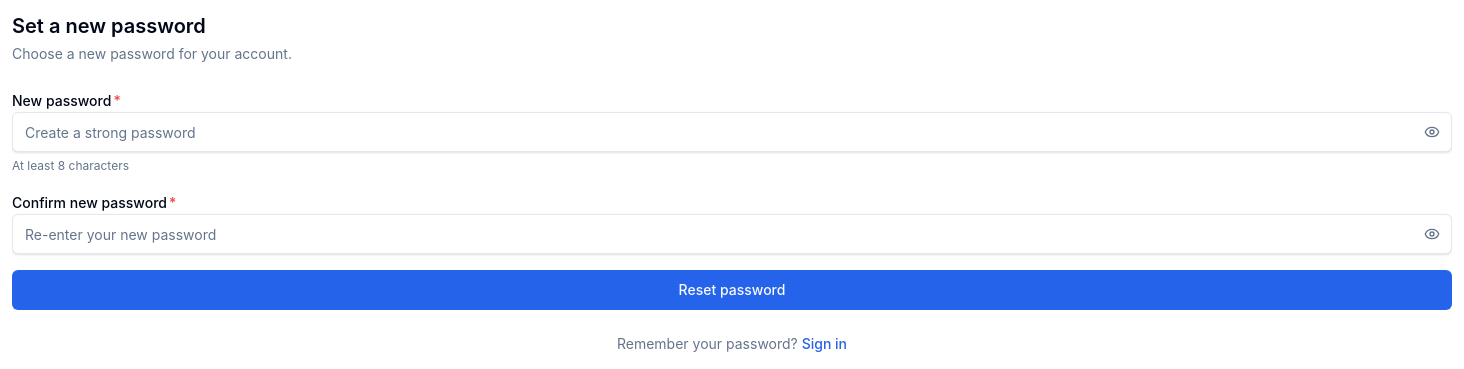
ResetPasswordPage › submits the token + new password to the exact endpoint and redirects to login
Type "newpassword456" into the password field labelled "New password*" at (732, 132), box [12, 112, 1452, 152]
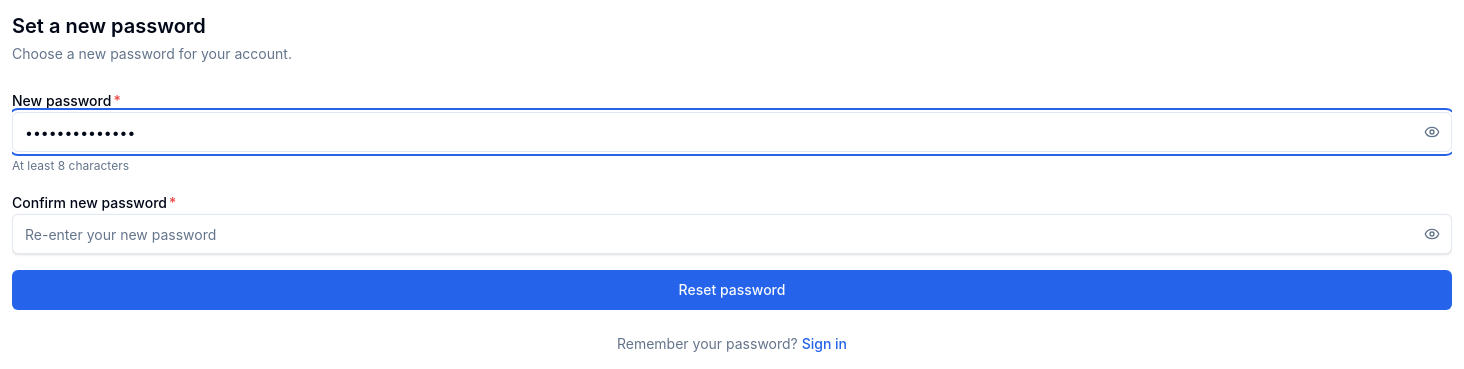
Type "newpassword456" into the password field labelled "Confirm new password*" at (732, 234), box [12, 214, 1452, 254]
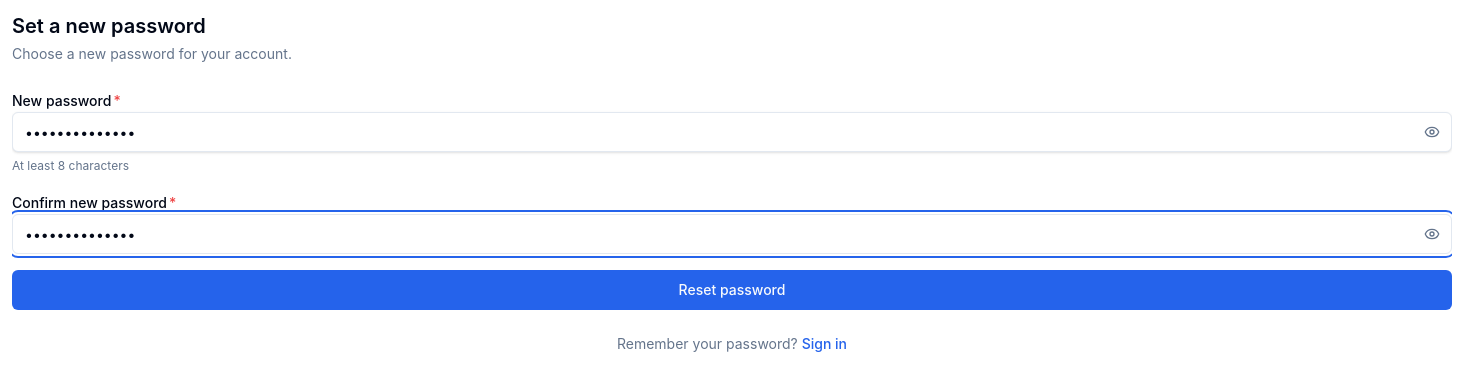
Click the button "Reset password" at (732, 290), box [12, 270, 1452, 310]
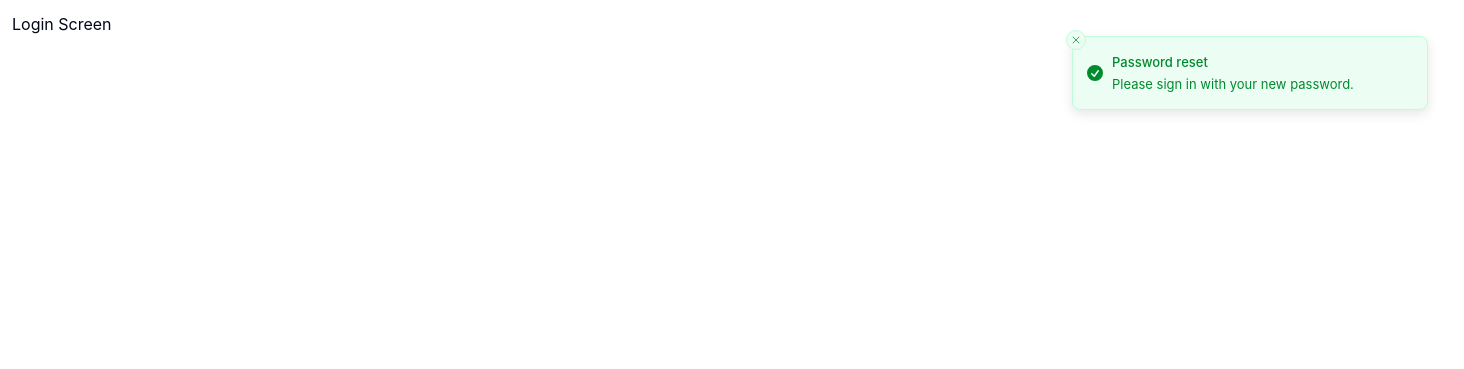
Expected: the text "Login Screen" is shown, [12, 14, 112, 34]
